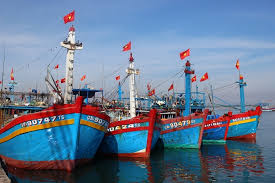tau_dansu: (5, 66, 108, 172), (106, 56, 158, 160), (166, 52, 203, 157), (226, 77, 265, 145)
